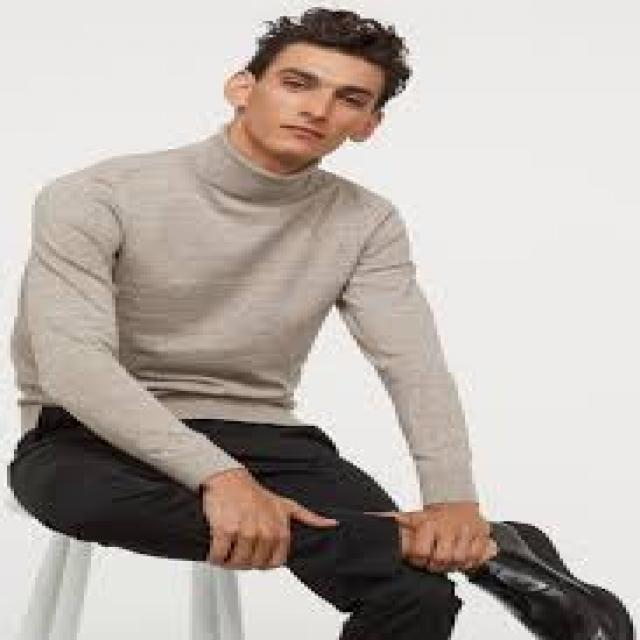plain: (19, 146, 466, 426)
